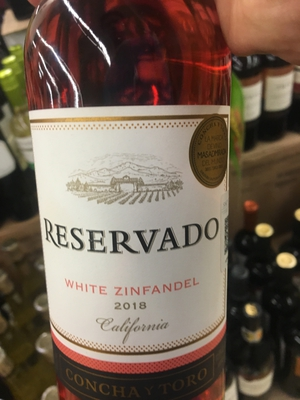reservado white zinfandel: (28, 3, 231, 400)
